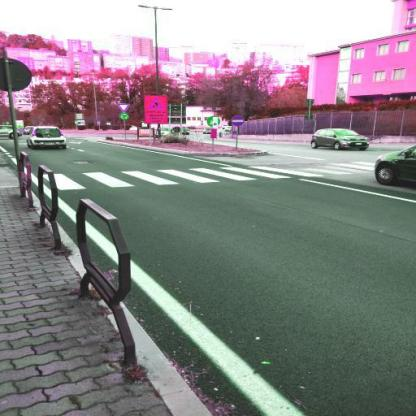crosswalk: (81, 162, 181, 193), (217, 156, 326, 184)
